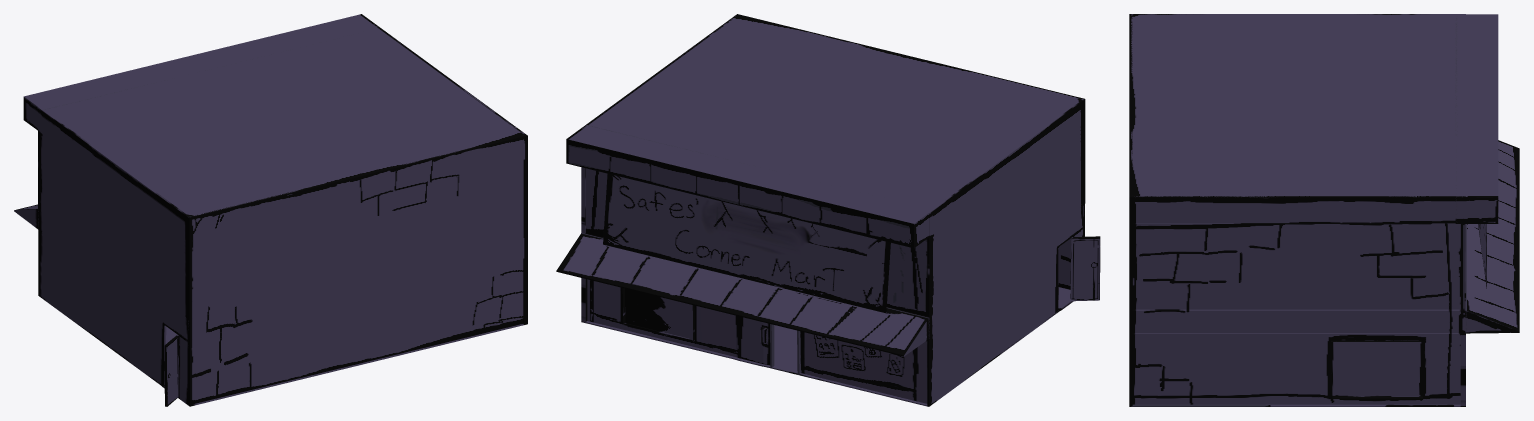
File: Cornerstore1 1.fbx
The picture shows the model from 3 angles, left to right: view 1: azimuth 30°, elevation 25°; view 2: azimuth 150°, elevation 25°; view 3: azimuth 270°, elevation 25°; orthographic projection. The views are drawn at different scales.
Visible parts, largest first — view 1: corner store; view 2: corner store; view 3: corner store.
Part boxes in pixels (x1,y1,x2,y2): corner store: [14, 14, 527, 406]; corner store: [556, 14, 1100, 406]; corner store: [1129, 14, 1519, 406].
Size of the model in its own units: 562 by 283 by 477.
